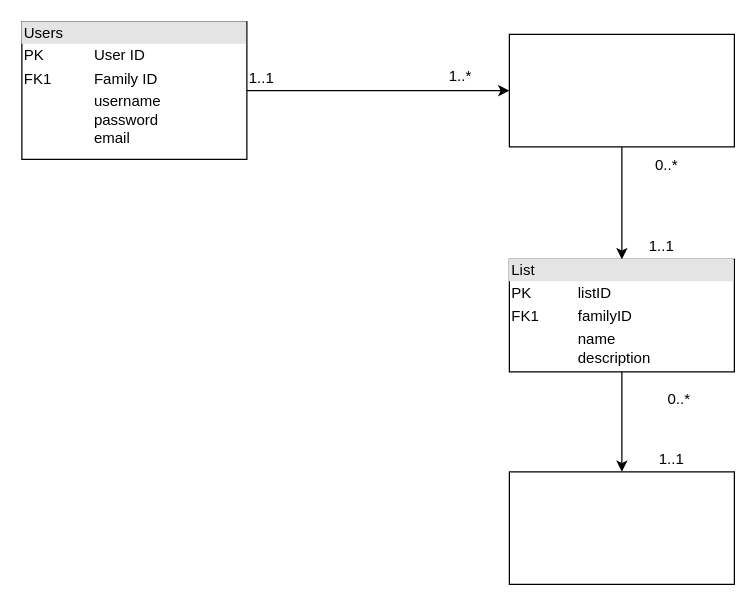
Image size: 756x606. Some labels were removed from this diagram. The shapes that lost their labels are listed below. From the top down, each one's centre as x and y in pixels, then its label:
At pixel 621 90: "Family PK familyID FK1 ownerID name".
At pixel 621 527: "Item PK itemID FK1 listID title description".
